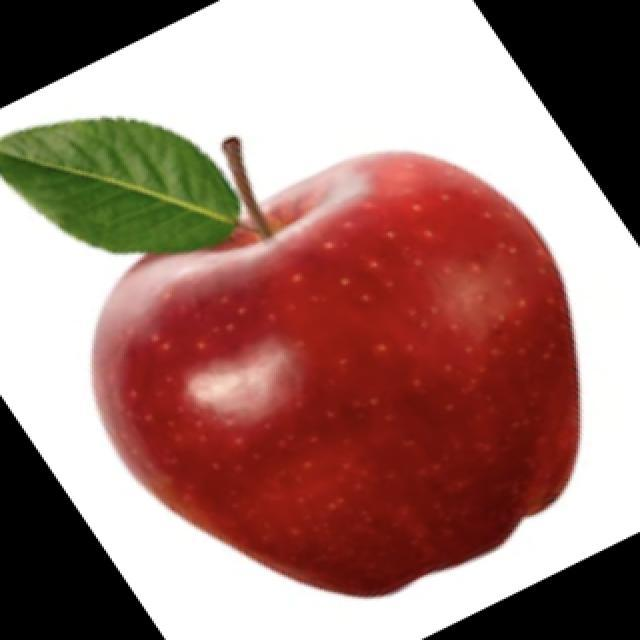Fresh Apple: (91, 144, 587, 602)
